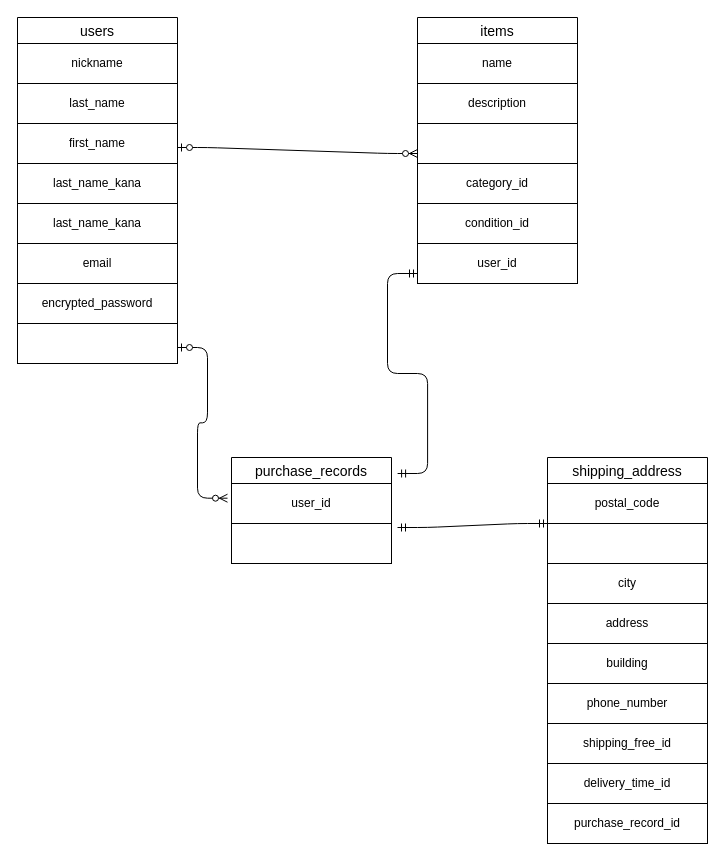
This 725x861 diagram has some shape labels left out. Here are the shapes that lost their labels. From the top down, the centre of each, then its label:
[497,143]: price
[97,343]: birth_date
[311,543]: item_id
[627,543]: prefecture_id
